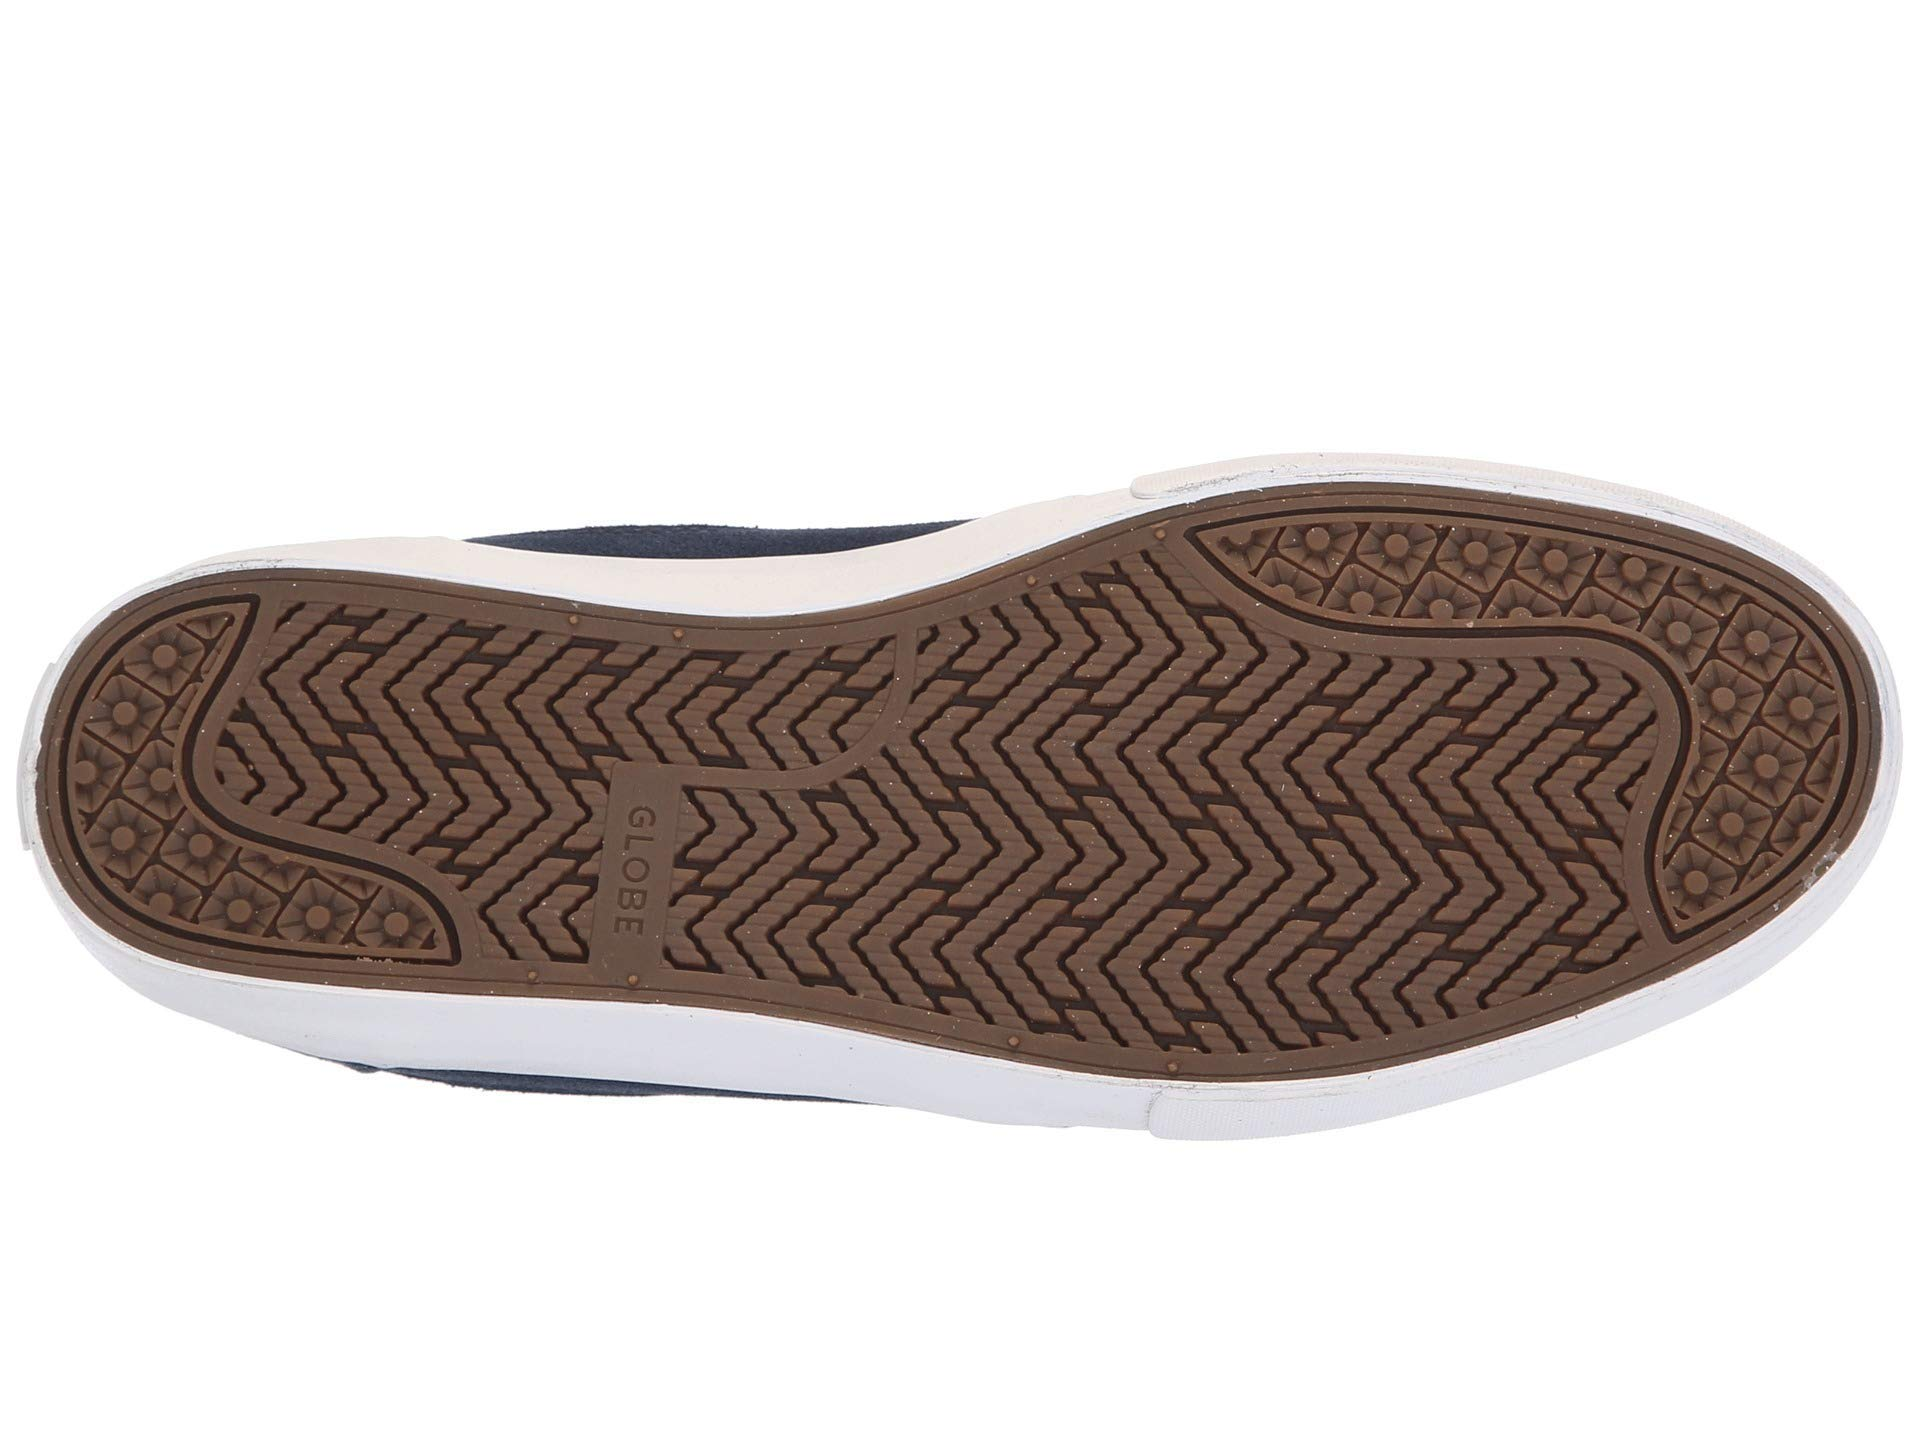chevron: (1005, 678, 1374, 1032), (505, 718, 756, 994)
circle: (505, 718, 756, 994), (1671, 596, 1875, 849), (71, 746, 228, 942), (1336, 502, 1488, 655)
quad: (505, 718, 756, 994), (1671, 596, 1875, 849), (71, 746, 228, 942), (1336, 502, 1488, 655)
star: (1671, 596, 1875, 849), (71, 746, 228, 942), (1336, 502, 1488, 655)
text: (505, 718, 756, 994)
